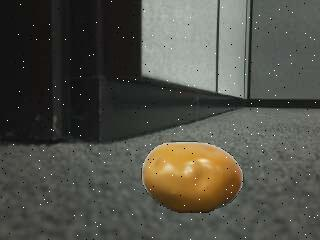Potato: (143, 141, 243, 213)
